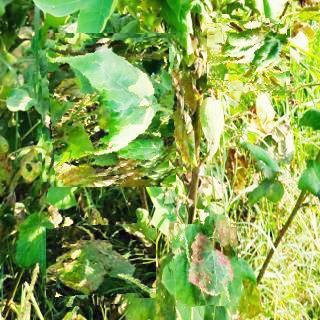blight: (56, 218, 147, 308), (170, 220, 241, 306)
curl: (42, 38, 188, 183), (210, 16, 286, 92)
